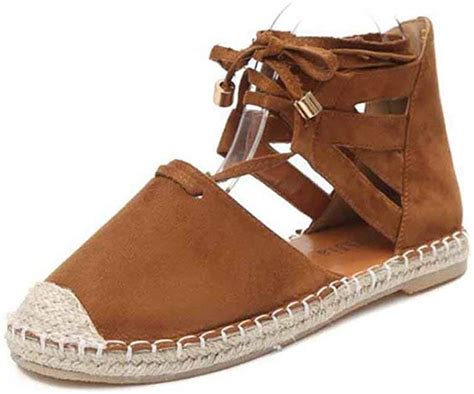gamuza: (46, 18, 464, 346)
